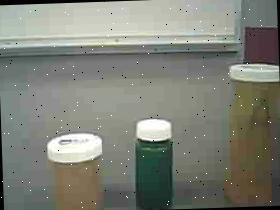Bottle A: (222, 57, 280, 207)
Bottle B: (37, 127, 113, 210)
Bottle C: (126, 114, 180, 210)
